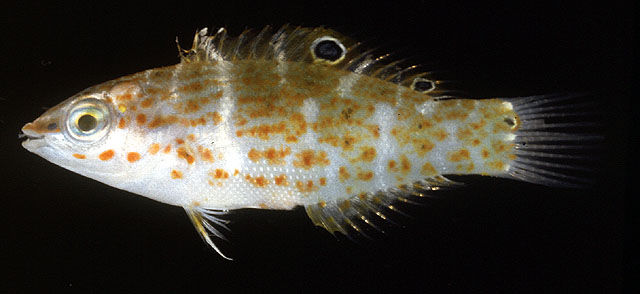fish: (22, 26, 577, 261)
